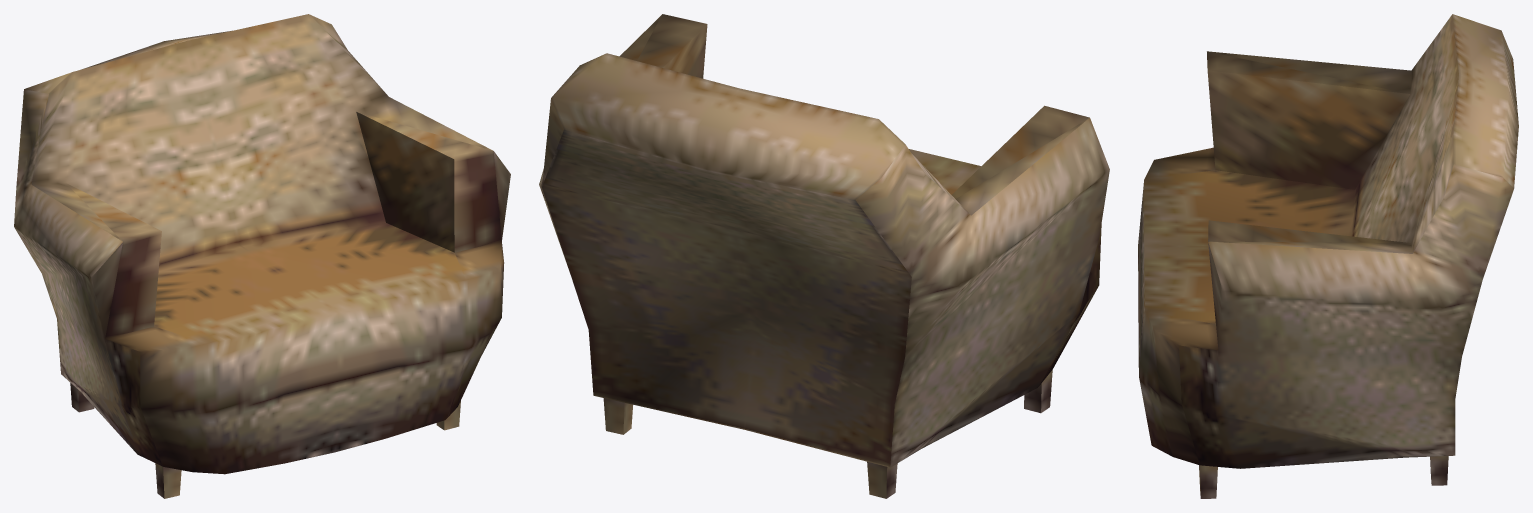
Rendered from kb_chair01.obj.
3 renders of one model, left to right at view 1: azimuth 30°, elevation 25°; view 2: azimuth 150°, elevation 25°; view 3: azimuth 270°, elevation 25°, orthographic. The views are drawn at different scales.
Visible parts, largest first — view 1: kb_chair01; view 2: kb_chair01; view 3: kb_chair01.
Boxes of the visible parts, bbox=[...] form: kb_chair01: bbox=[14, 14, 510, 498]; kb_chair01: bbox=[539, 14, 1109, 498]; kb_chair01: bbox=[1138, 14, 1518, 498].
Size of the model in its own units: 1.35 by 1.02 by 1.01.
Materials: 1 (1 with a texture image).
